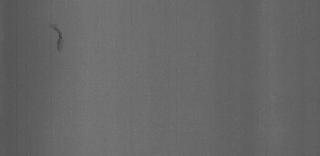water spot: (48, 21, 70, 59)
